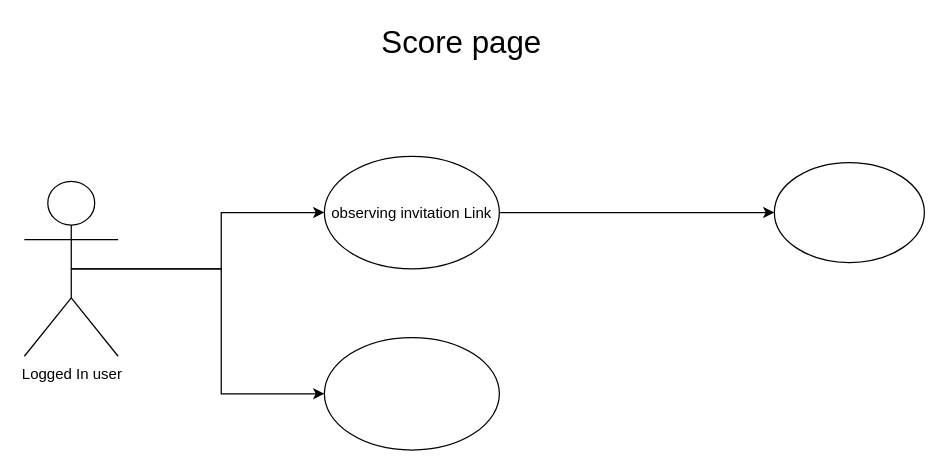
The diagram is 946 pixels wide and 471 high, and some of its shapes have lost their labels. Here are the shapes that lost their labels. From the top down, the centre of each, then its label:
point 848,211: sharing with other people to get more score
point 411,393: observing scores
